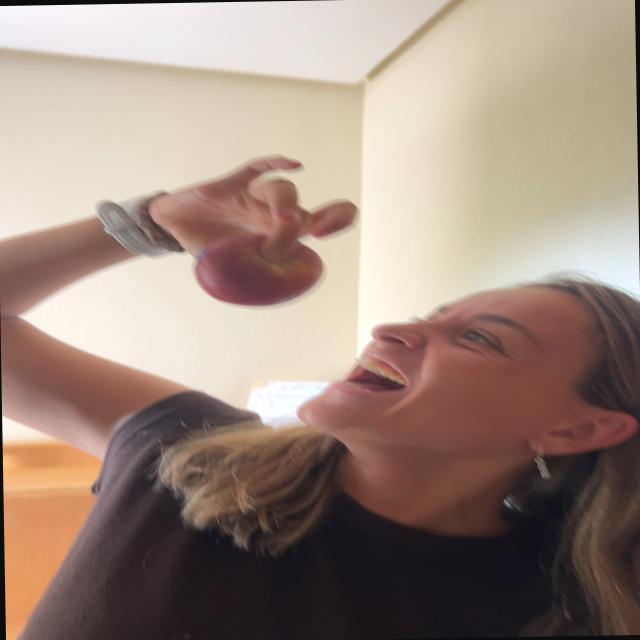apple: (195, 234, 323, 305)
